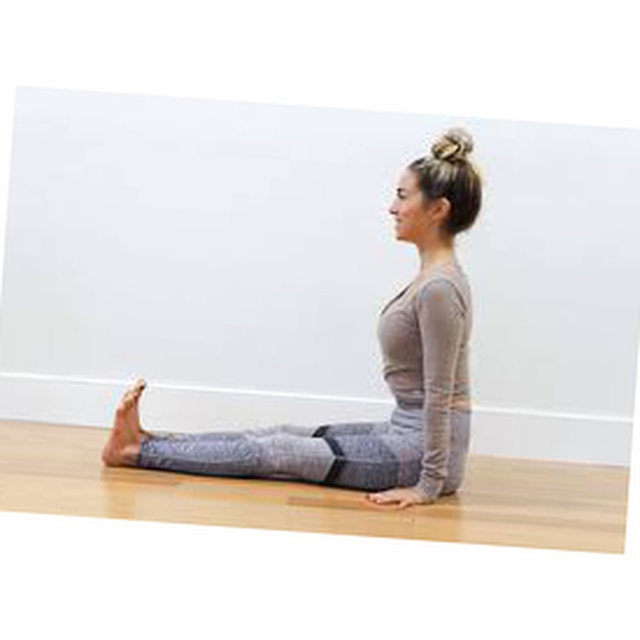Staff_Pose: (101, 127, 482, 514)
